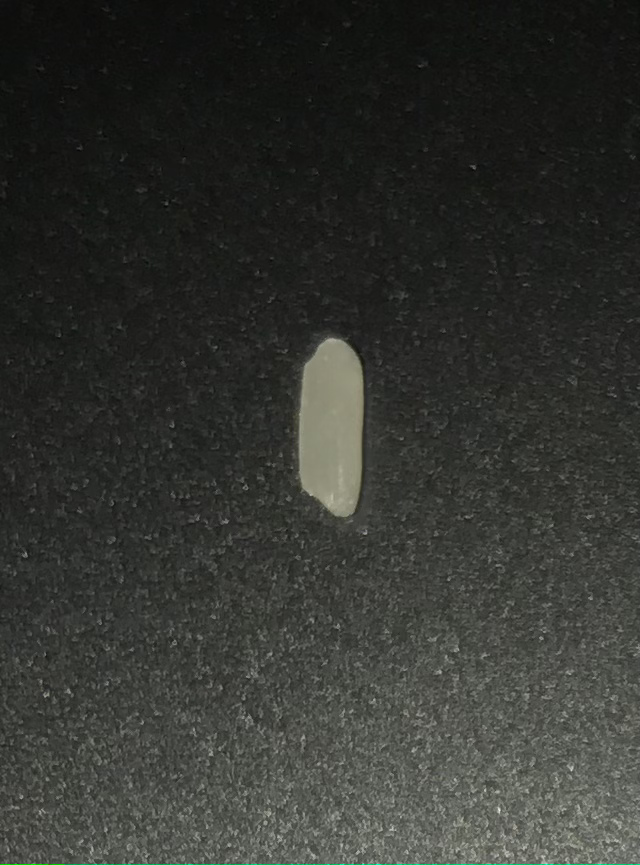Gao Tam Thom: (275, 320, 377, 528)
